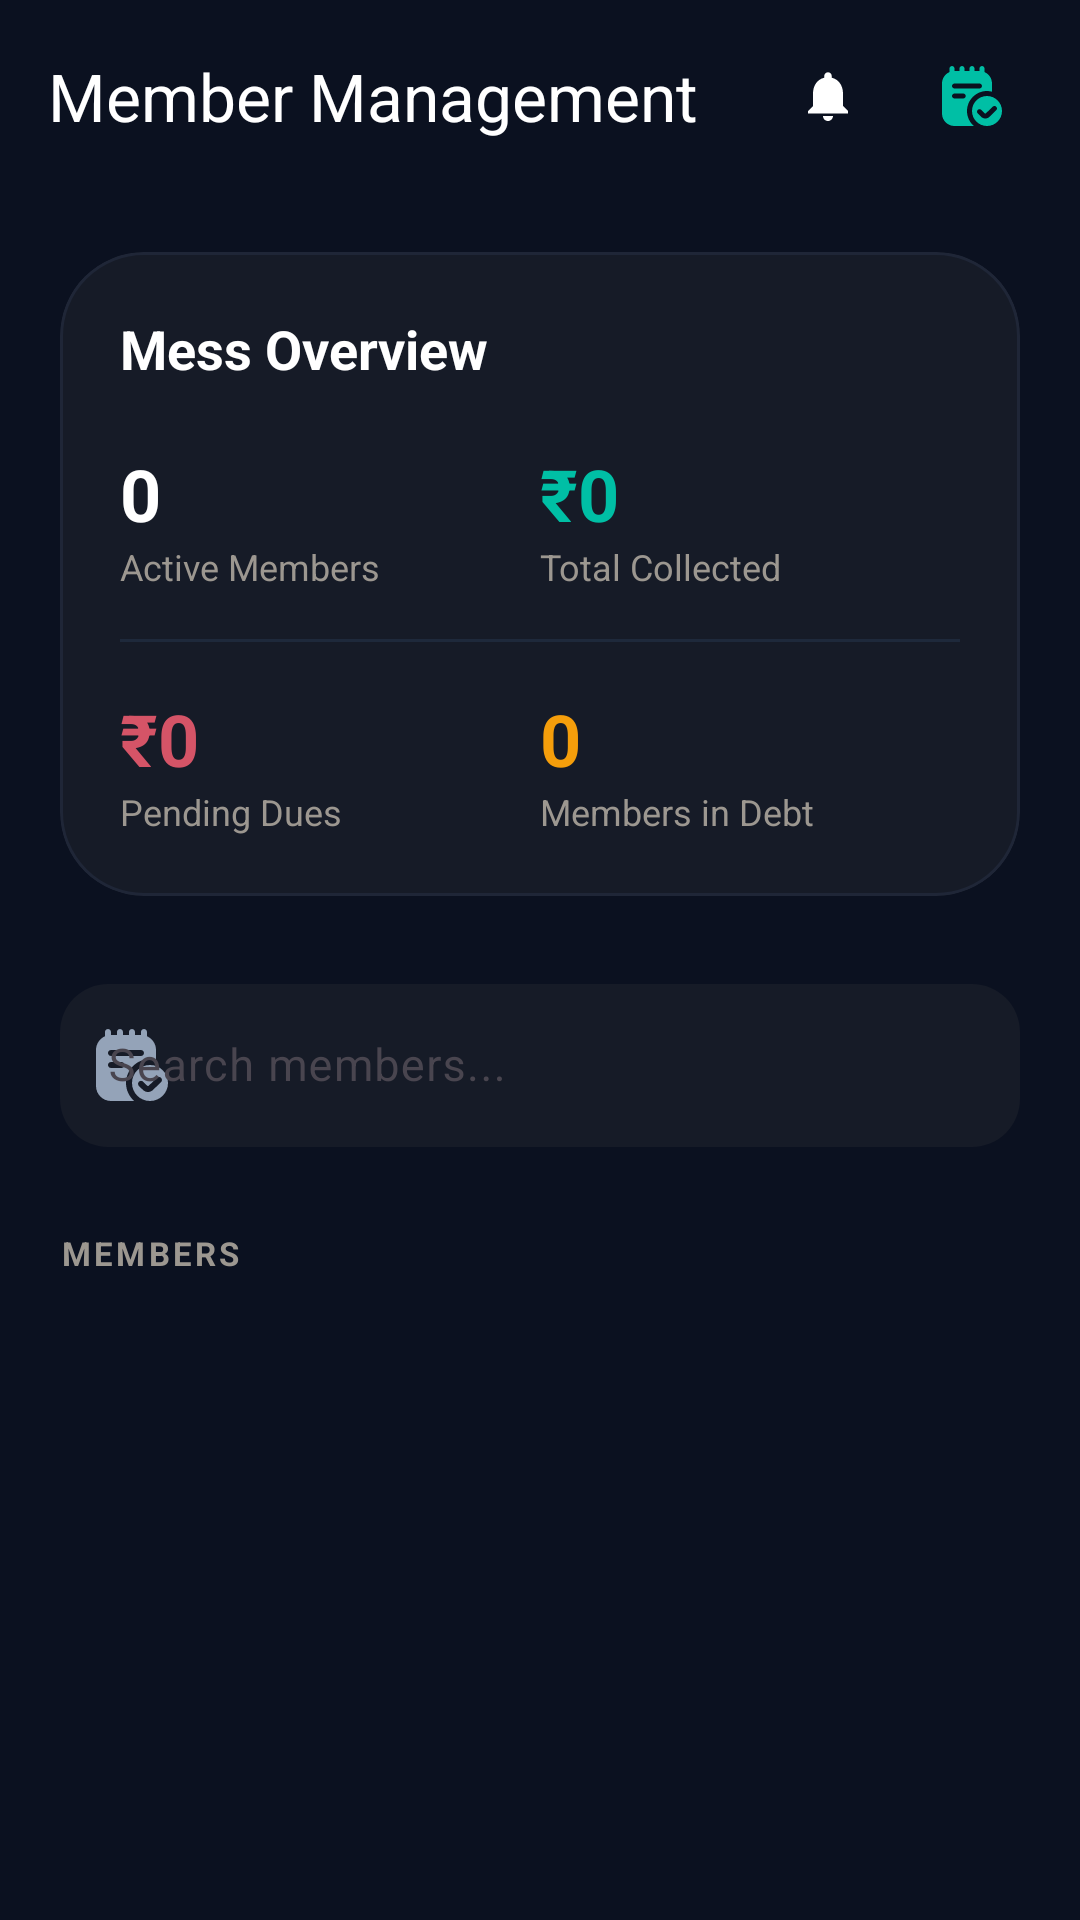

Named icons in this screenshot (1080 x 1920) and their centers, point (x, y):
notifications: point (828, 96)
